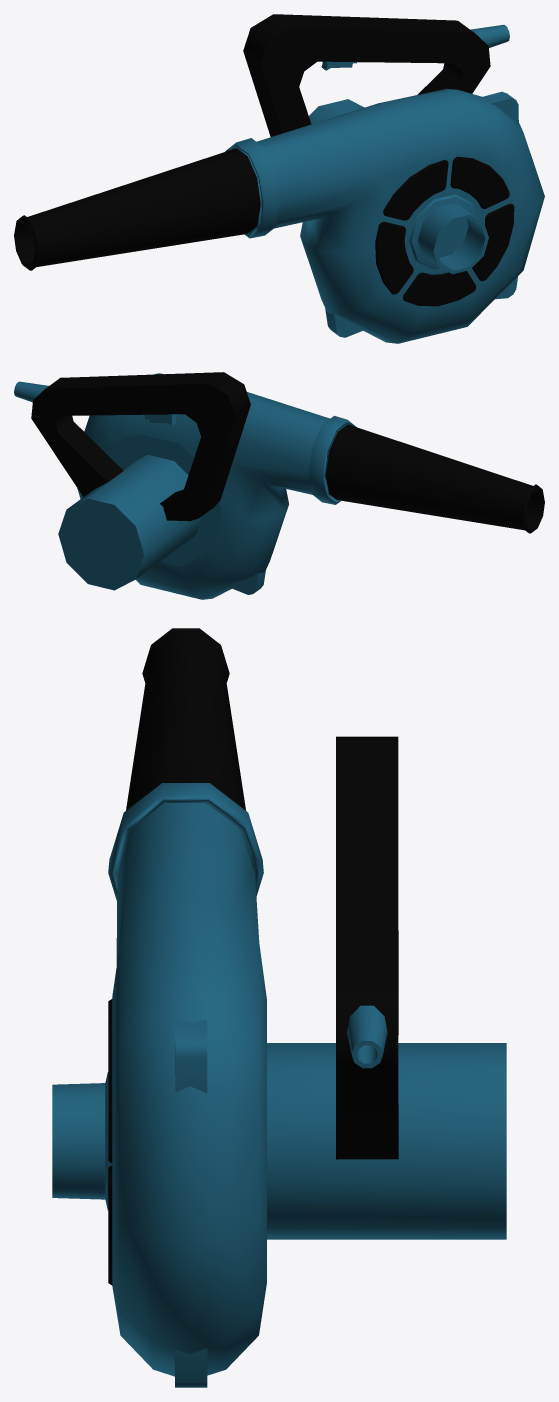
The model's file is 吹风机.fbx.
The picture shows the model from 3 angles, top to bottom: view 1: azimuth 30°, elevation 25°; view 2: azimuth 150°, elevation 25°; view 3: azimuth 270°, elevation 25°; orthographic projection. The views are drawn at different scales.
Visible parts, largest first — view 1: JJ_chuifengji; view 2: JJ_chuifengji; view 3: JJ_chuifengji.
Part boxes in pixels (x1,y1,x2,y2): JJ_chuifengji: (14,14,544,343); JJ_chuifengji: (14,372,544,599); JJ_chuifengji: (52,628,506,1387).
Bounding box in the file's own units: 170 × 91.34 × 70.98.
